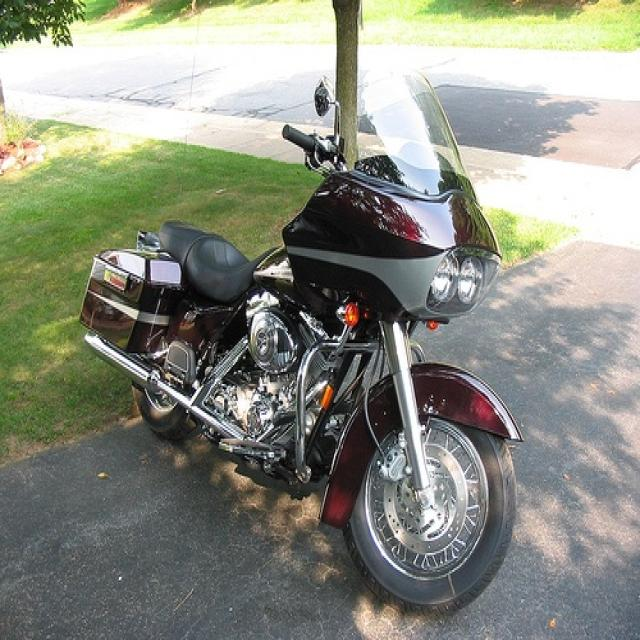motorbike: (75, 77, 525, 616)
